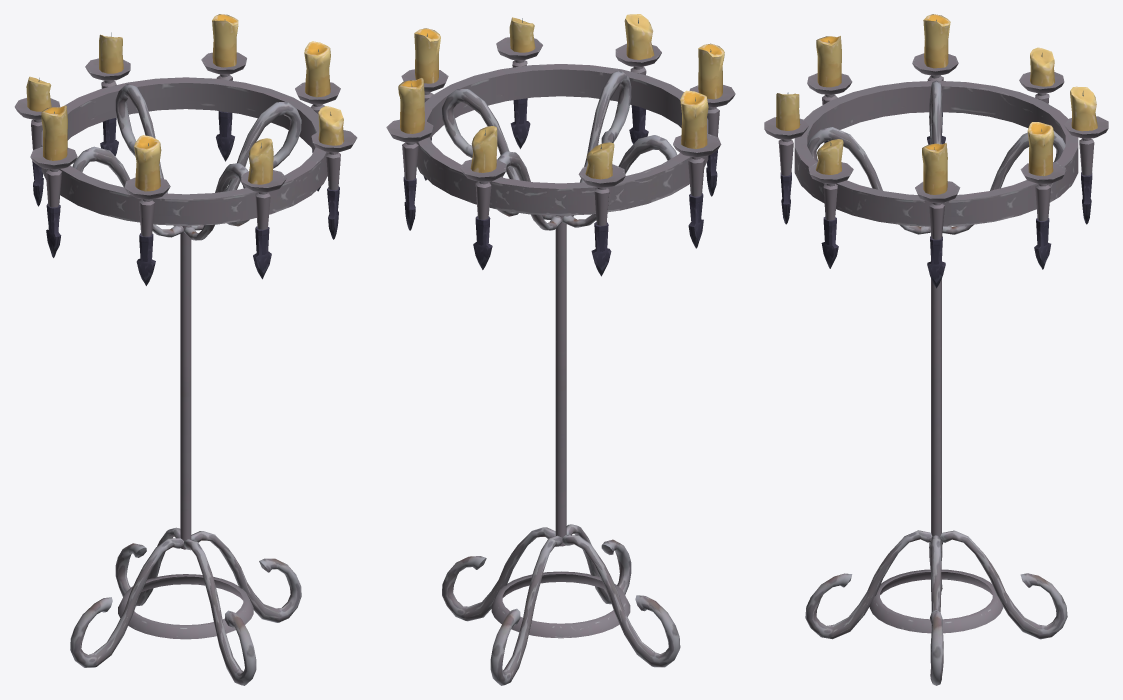
Rendered from CandleStick_Stand.glb.
3 renders of one model, left to right at view 1: azimuth 30°, elevation 25°; view 2: azimuth 150°, elevation 25°; view 3: azimuth 270°, elevation 25°, orthographic. The views are drawn at different scales.
Parts seen in each view (by area): view 1: CandleStick_Stand; view 2: CandleStick_Stand; view 3: CandleStick_Stand.
Part boxes in pixels (left/top/right/bottom): CandleStick_Stand: left=14, top=14, right=357, bottom=685; CandleStick_Stand: left=386, top=14, right=735, bottom=685; CandleStick_Stand: left=764, top=14, right=1108, bottom=685.
Bounding box in the file's own units: 0.7323 × 1.31 × 0.7313.
Materials: 2 (2 with a texture image).
